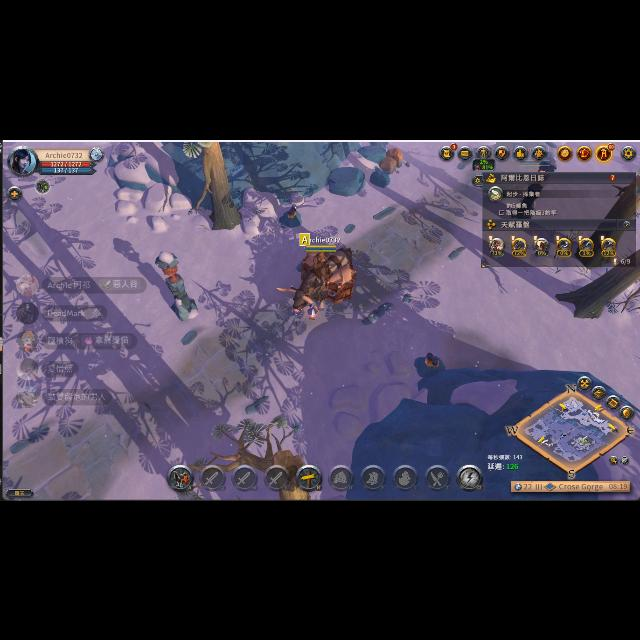mine_ii: (416, 349, 446, 377), (280, 205, 302, 228)
